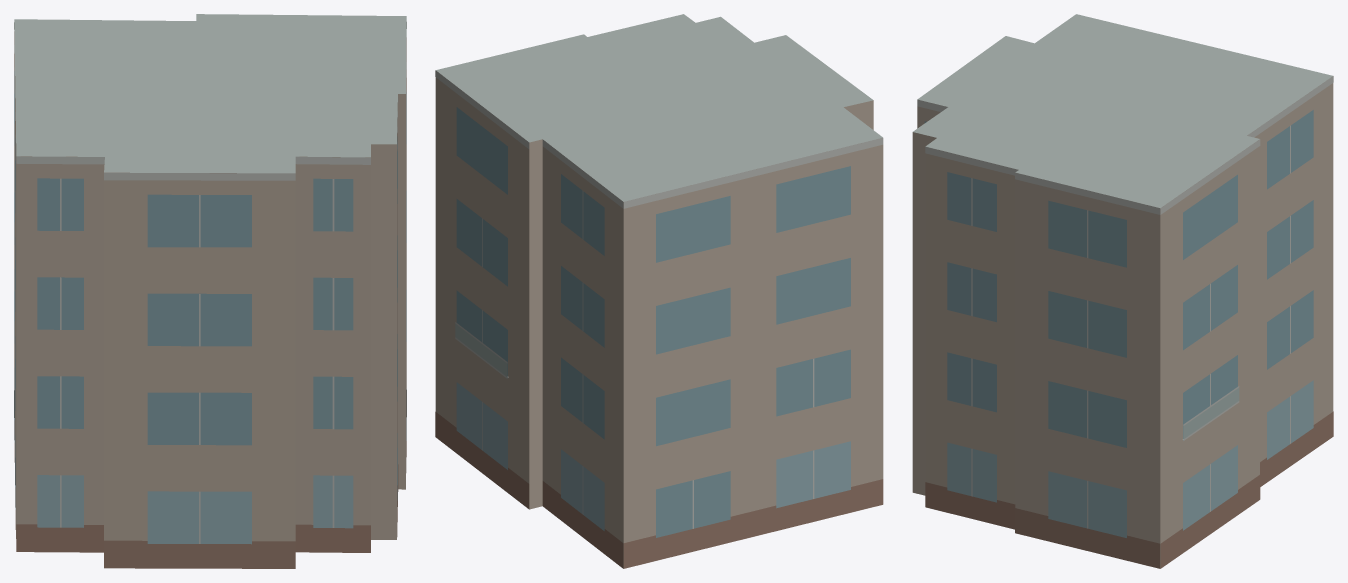
The model's file is survey-upis-32641308.glb.
3 renders of one model, left to right at view 1: azimuth 30°, elevation 25°; view 2: azimuth 150°, elevation 25°; view 3: azimuth 270°, elevation 25°, orthographic. The views are drawn at different scales.
Parts seen in each view (by area): view 1: survey-upis-32641308.tmp; view 2: survey-upis-32641308.tmp; view 3: survey-upis-32641308.tmp.
Boxes of the visible parts, x1,y1,x2,y2 form: survey-upis-32641308.tmp: [14, 14, 406, 568]; survey-upis-32641308.tmp: [435, 14, 883, 568]; survey-upis-32641308.tmp: [912, 14, 1333, 568].
Size of the model in its own units: 14.91 by 12.9 by 13.65.
